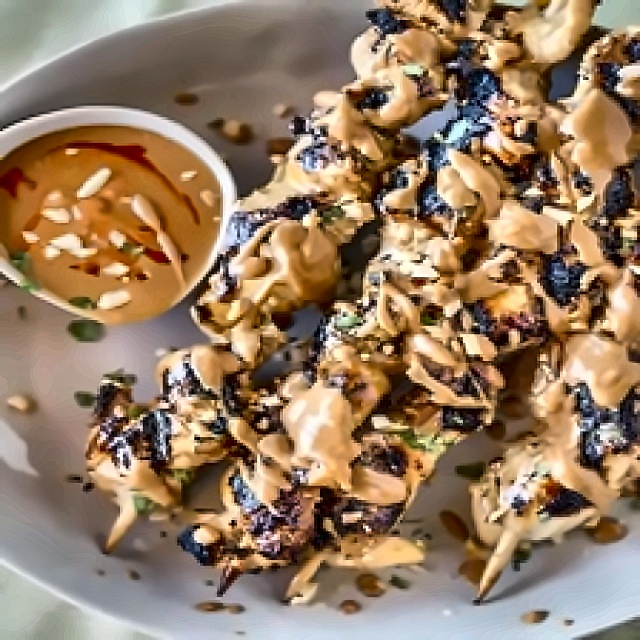satay_skewer: (99, 0, 601, 545), (217, 0, 637, 607), (194, 0, 640, 460)
